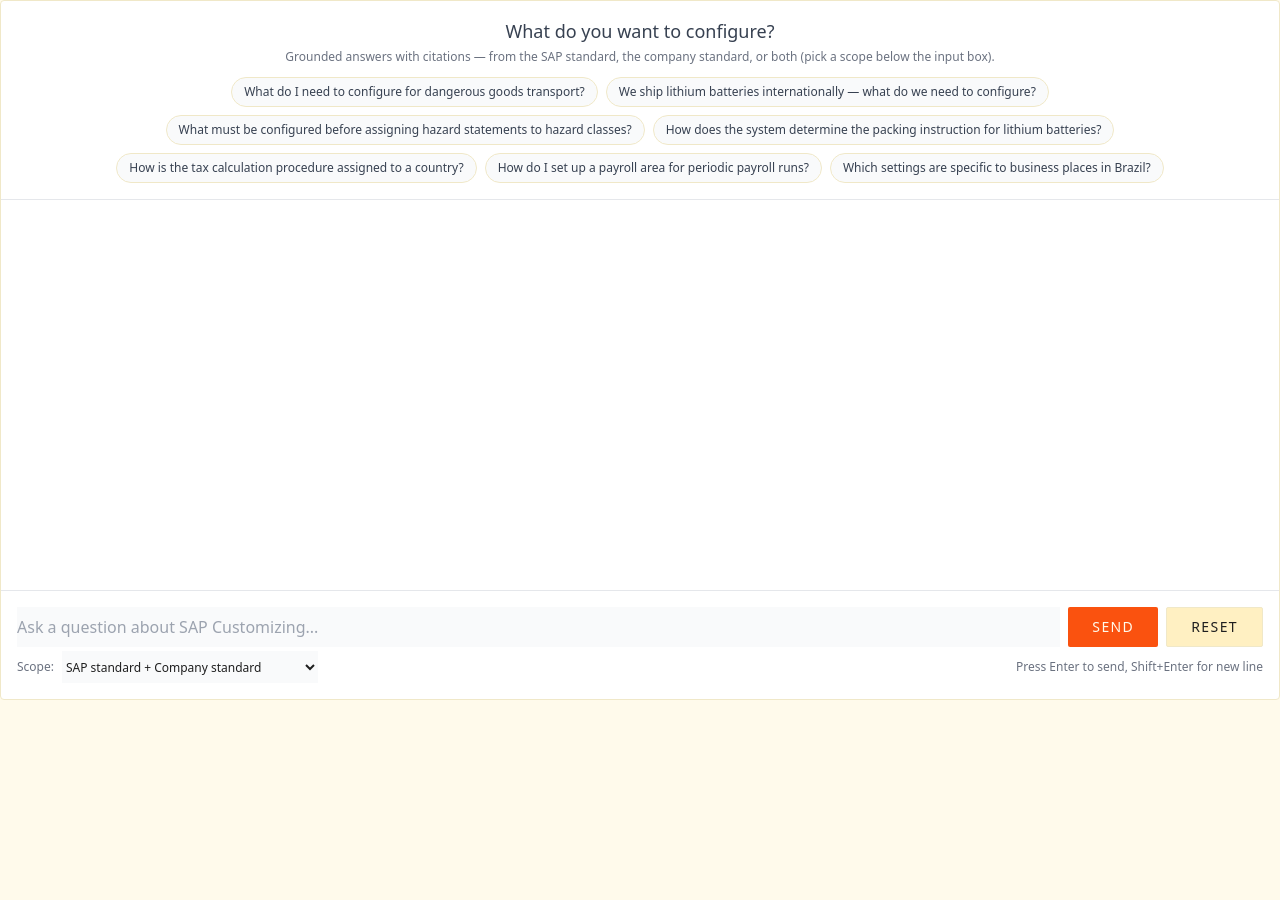
HomePage › displays assistant messages after chat
The width and height of the screenshot is (1280, 900).
In the field with placeholder "Ask a question about SAP Customizing...": (539, 627) [17, 607, 1060, 647], type "Test query"
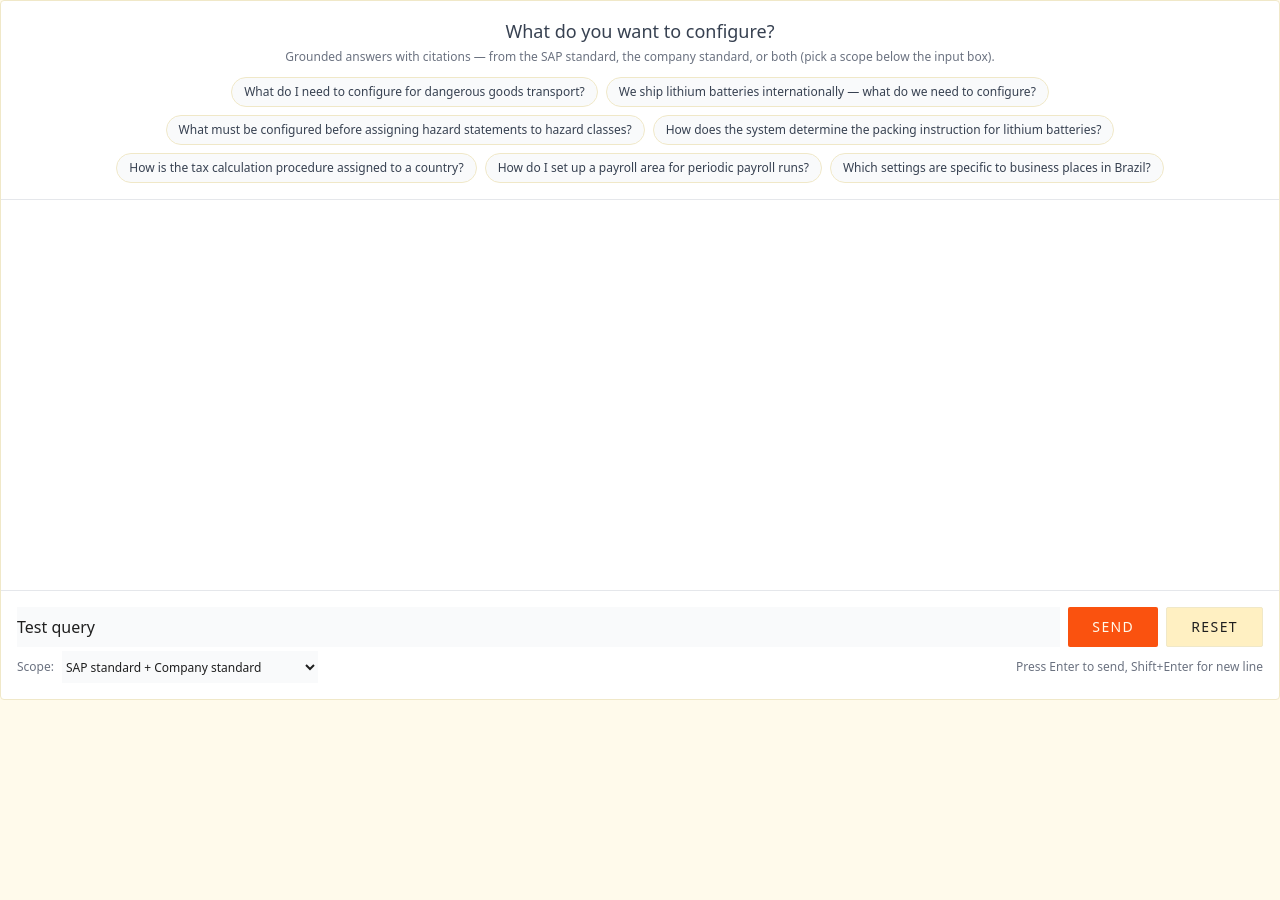
Press Enter in the field with placeholder "Ask a question about SAP Customizing...", box [17, 607, 1060, 647]
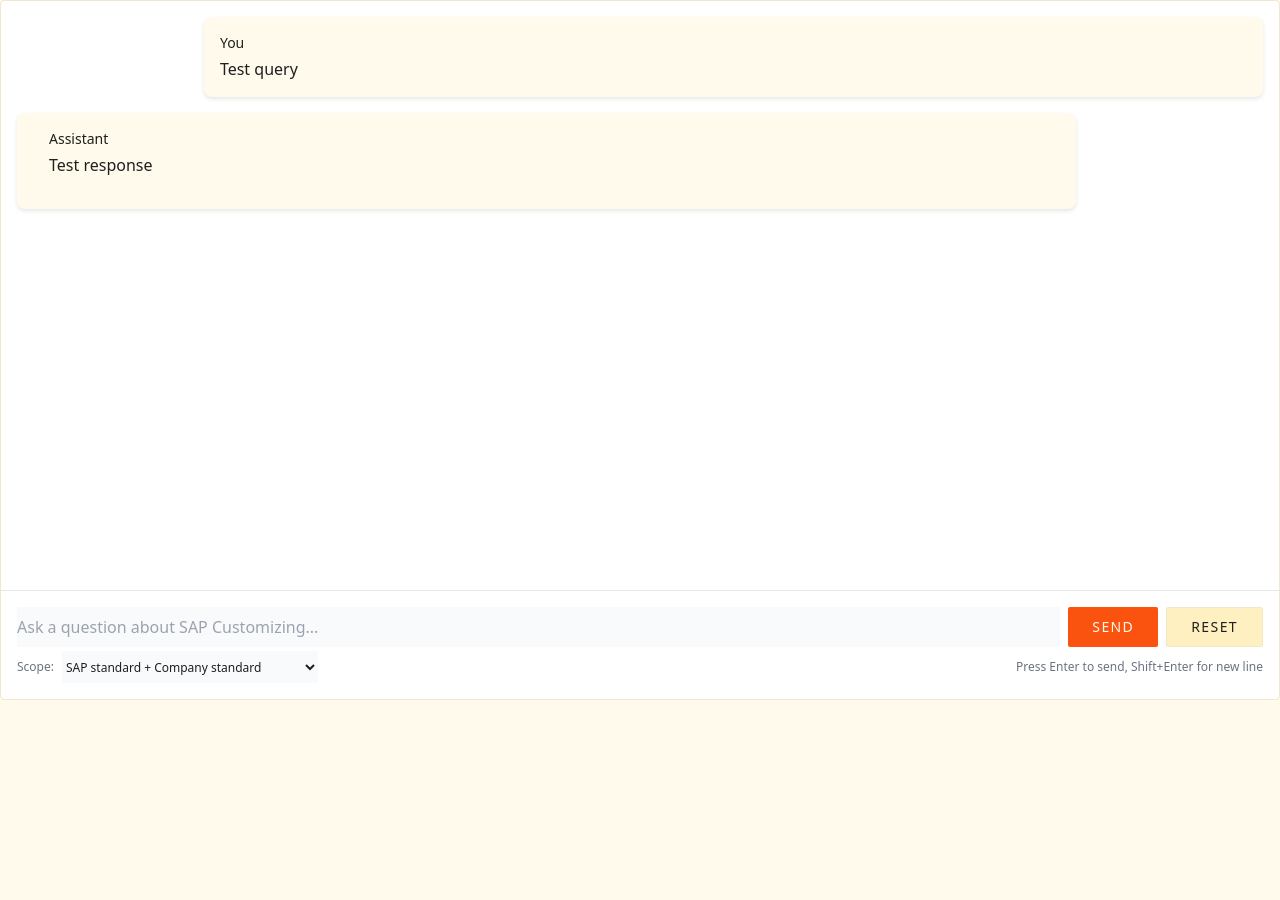
Now the text "Assistant" is shown, box [49, 129, 108, 148]
Now the text "Test response" is shown, box [49, 154, 152, 176]
